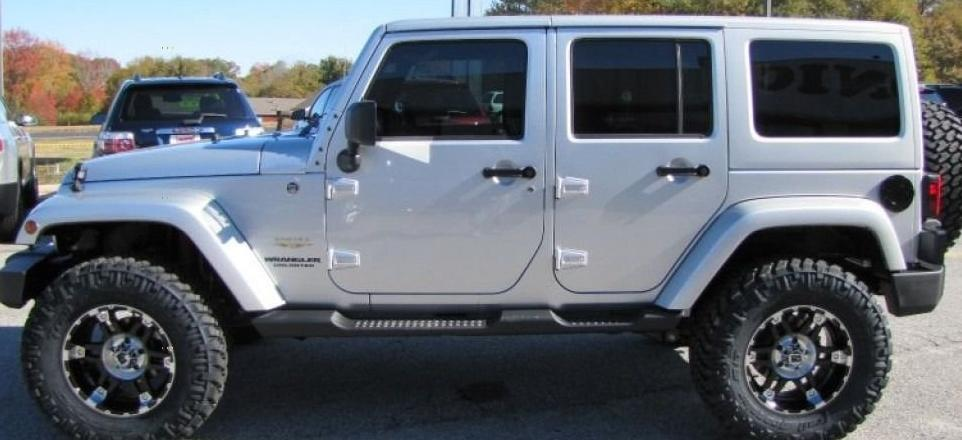SUV: (0, 15, 962, 436)
